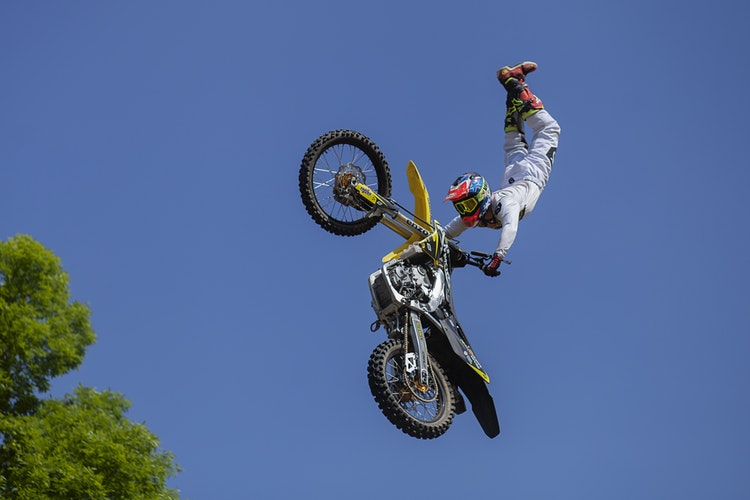helmet: (442, 165, 493, 230)
